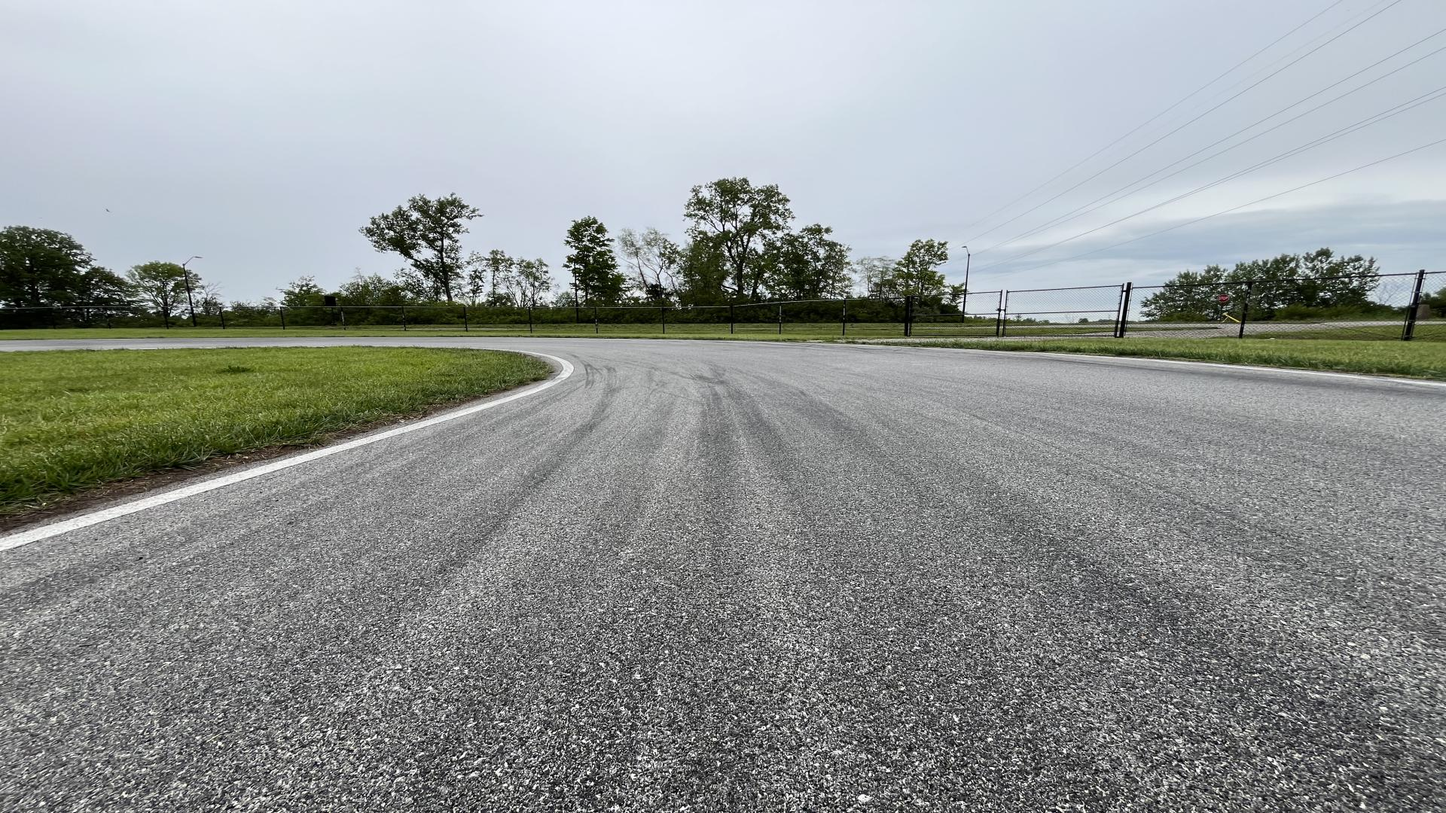white-line: (0, 346, 574, 549), (218, 336, 1445, 389)
